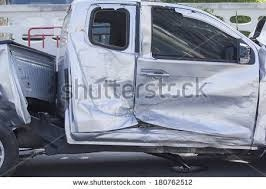Smashed: (60, 8, 247, 154)
